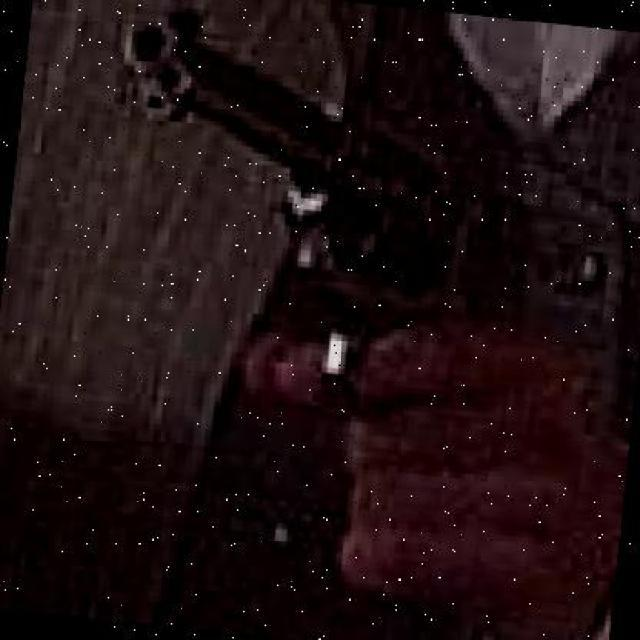rifle: (116, 4, 604, 490)
